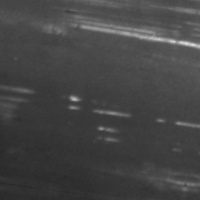scratches: (47, 8, 199, 53)
